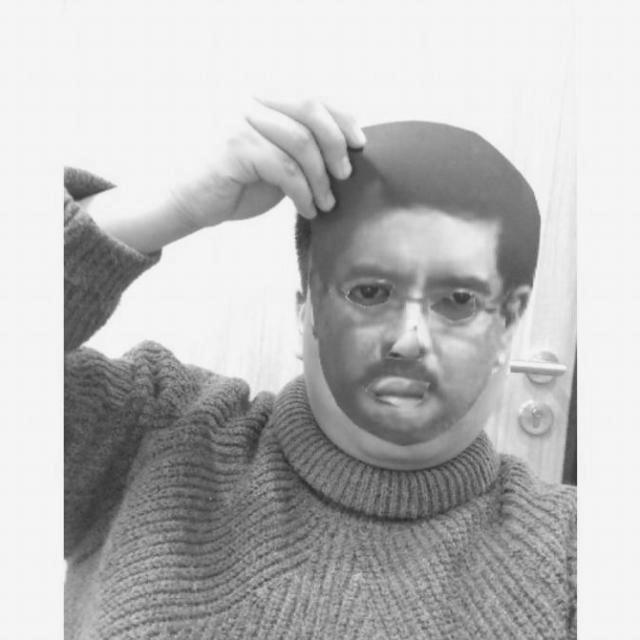fake: (299, 118, 542, 444)
